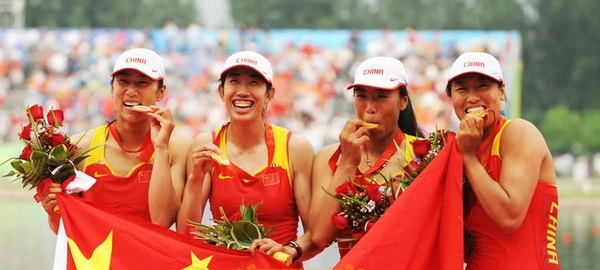face: (452, 74, 500, 128), (355, 83, 401, 134), (224, 69, 266, 120), (114, 70, 157, 119)
